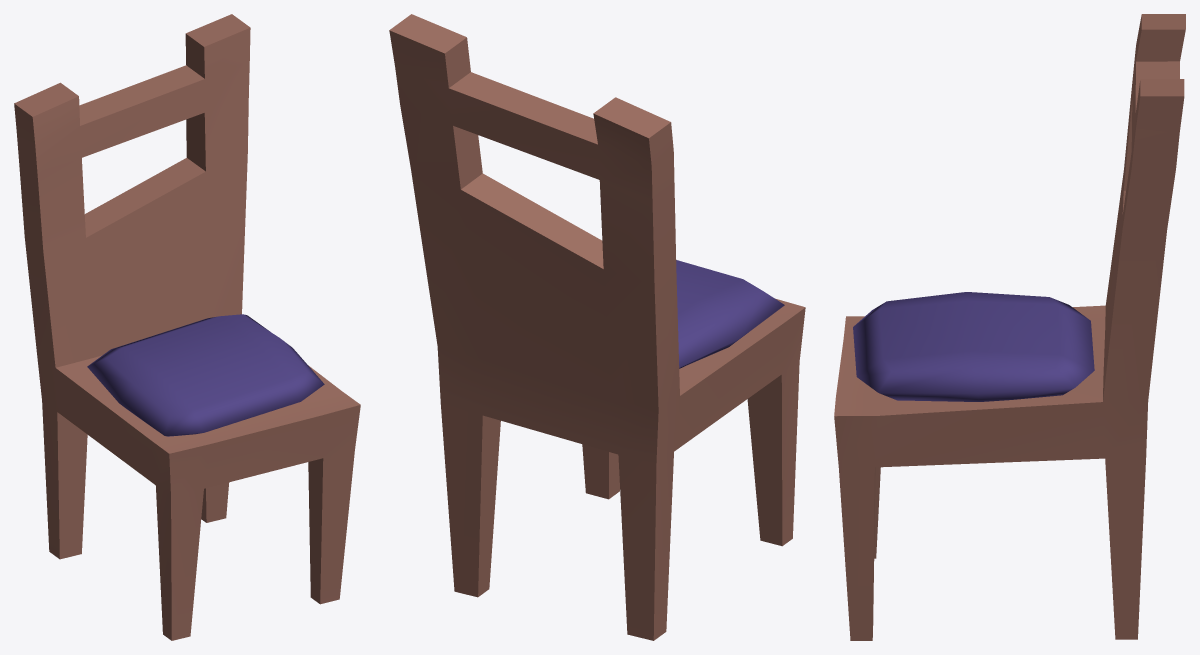
The model's file is GGJ_room_chair_study.fbx.
3 renders of one model, left to right at view 1: azimuth 30°, elevation 25°; view 2: azimuth 150°, elevation 25°; view 3: azimuth 270°, elevation 25°, orthographic. The views are drawn at different scales.
Visible parts, largest first — view 1: chair_study, chair_pillow; view 2: chair_study, chair_pillow; view 3: chair_study, chair_pillow.
Boxes of the visible parts, x1,y1,x2,y2 form: chair_study: (14,14,360,640); chair_pillow: (87,314,324,436); chair_study: (389,14,805,640); chair_pillow: (676,260,784,368); chair_study: (834,14,1185,640); chair_pillow: (853,292,1094,401).
Size of the model in its own units: 0.5294 by 1.11 by 0.6246.
